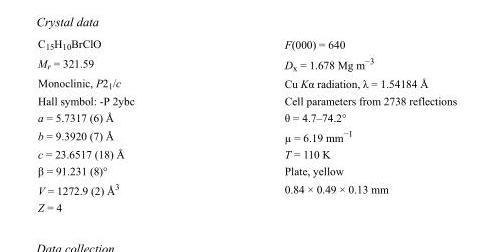table: (37, 36, 456, 213)
table column: (208, 36, 456, 213), (37, 36, 208, 213)
table row: (37, 53, 456, 74), (37, 125, 456, 145), (37, 178, 456, 198), (37, 74, 456, 92), (37, 36, 456, 53), (37, 108, 456, 125), (37, 145, 456, 162), (37, 92, 456, 108), (37, 162, 456, 178), (37, 198, 456, 213)
